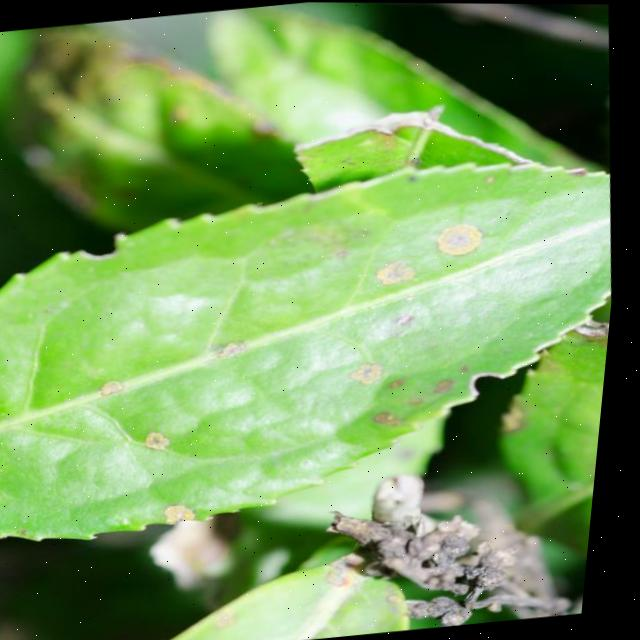Tea red rust: (71, 178, 537, 552)
